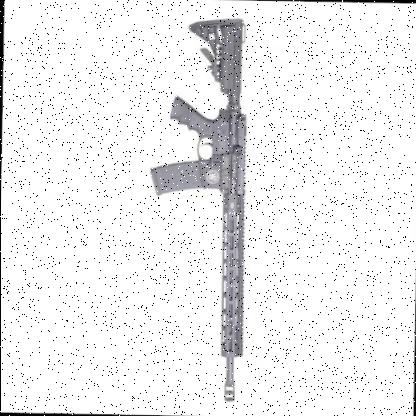rifle: (140, 9, 253, 404)
